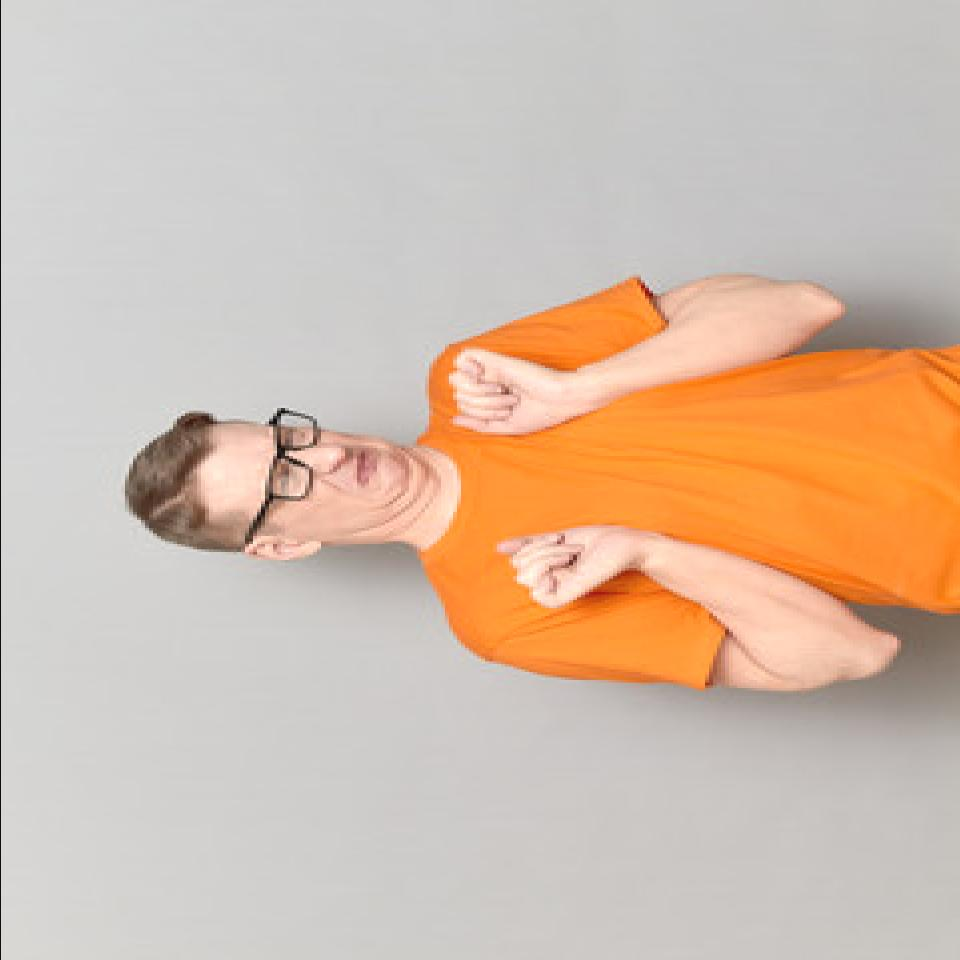Disgust: (189, 420, 414, 546)
